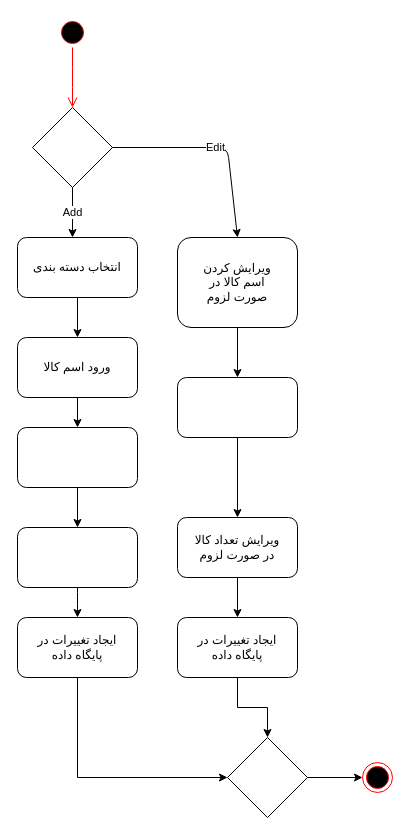
Image size: 410x835. Some labels were removed from this diagram. The shapes that lost their labels are listed below. From the top down, each one's centre as x and y in pixels, then its label:
At (x=237, y=407): "ویرایش مبلغ کالا در صورت لزوم".
At (x=77, y=457): "ورود تعداد کالا".
At (x=77, y=557): "ورود مبلغ کالا".
